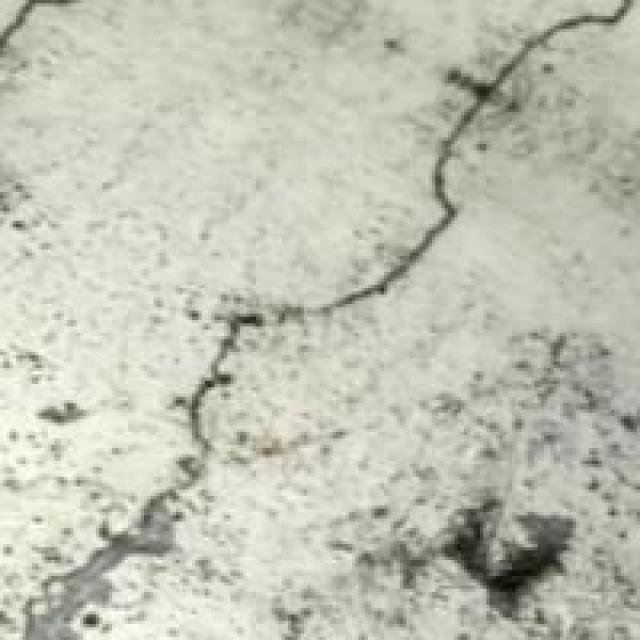Crack: (150, 0, 636, 458)
